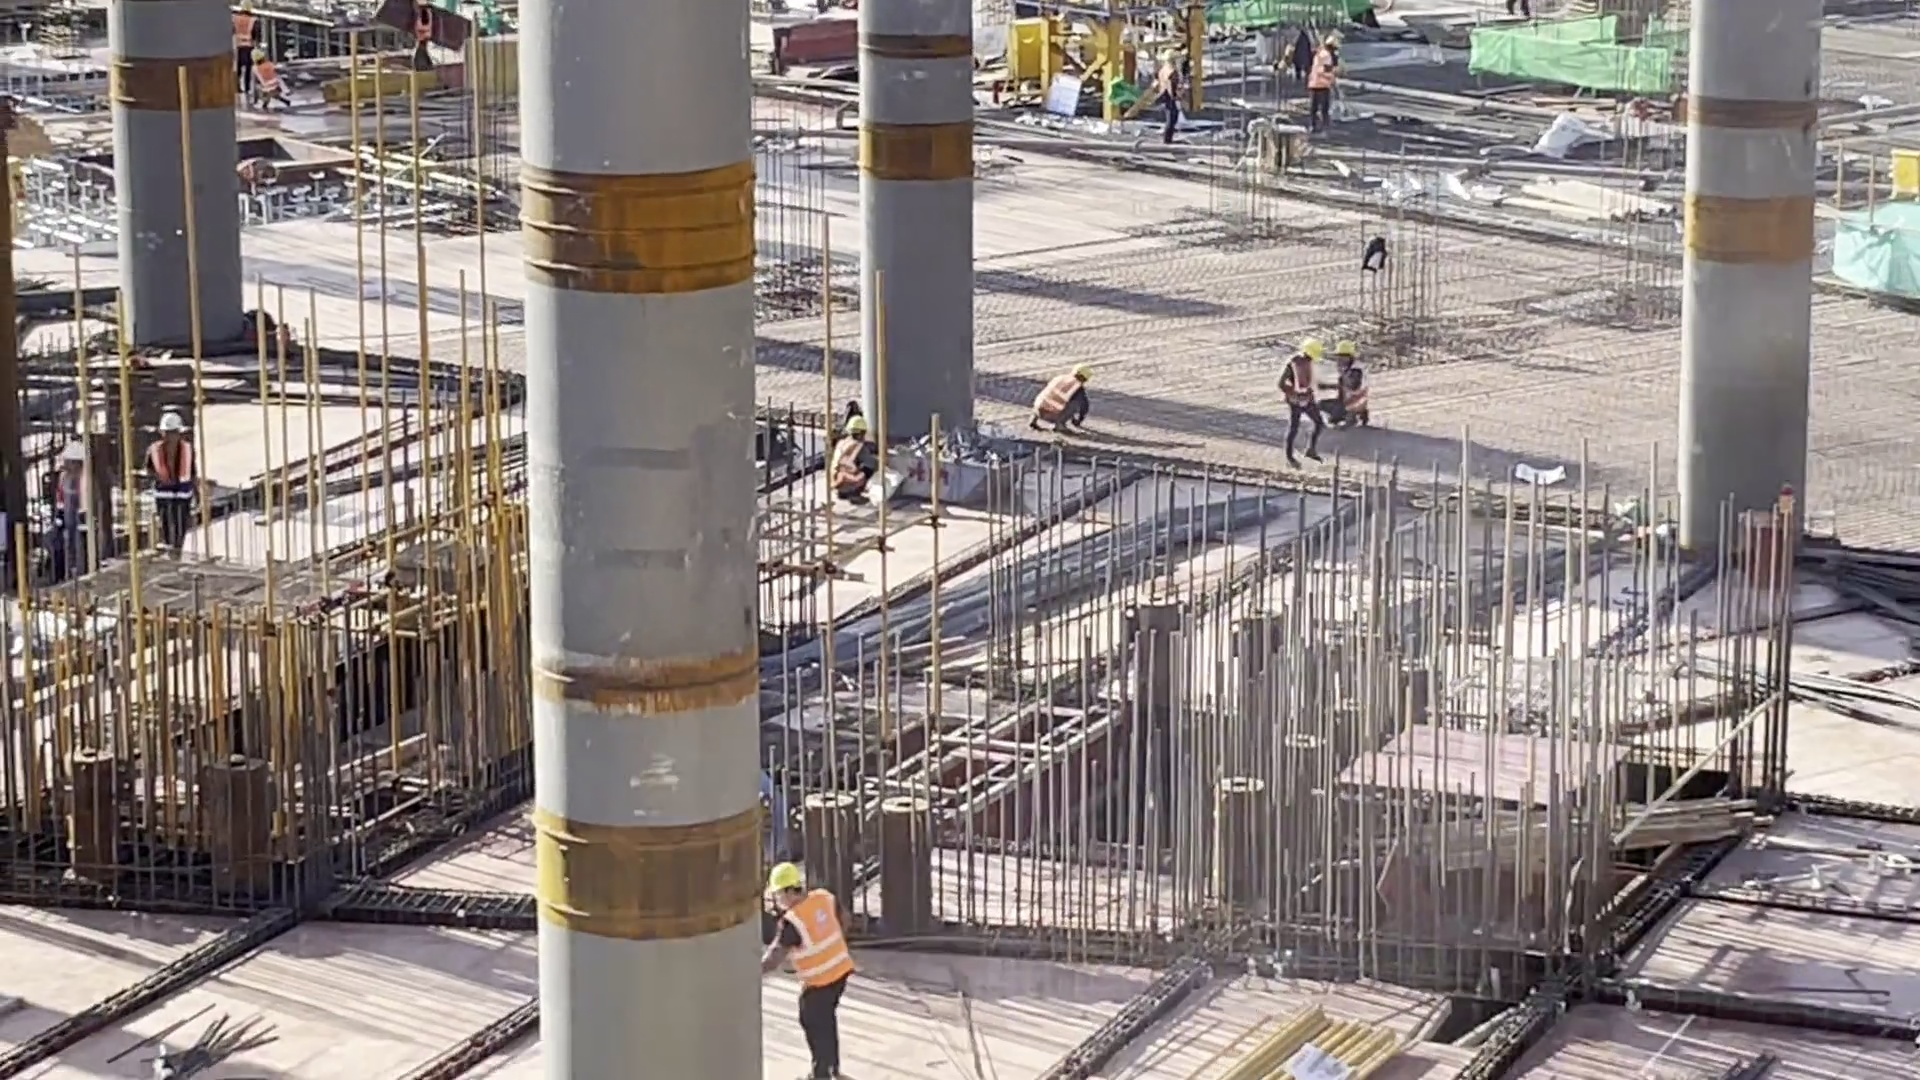ebox: (1888, 141, 1920, 196)
helmet: (770, 859, 807, 900), (1296, 330, 1327, 359), (160, 405, 186, 437), (55, 438, 87, 464), (1071, 359, 1094, 382), (842, 412, 864, 433)
hopper: (867, 431, 1007, 517)
person: (766, 863, 851, 1074), (151, 409, 221, 556), (1264, 323, 1332, 457), (1300, 28, 1356, 135), (1028, 350, 1093, 441), (44, 431, 88, 550), (1151, 42, 1191, 146), (1337, 337, 1377, 435), (841, 415, 873, 513), (248, 37, 284, 113)
vest: (774, 893, 859, 983), (148, 448, 200, 505), (1032, 383, 1076, 438), (45, 468, 81, 522), (1285, 355, 1318, 412), (831, 431, 864, 482), (1331, 370, 1365, 413), (1302, 45, 1331, 90), (1152, 61, 1176, 96), (255, 63, 282, 89)
